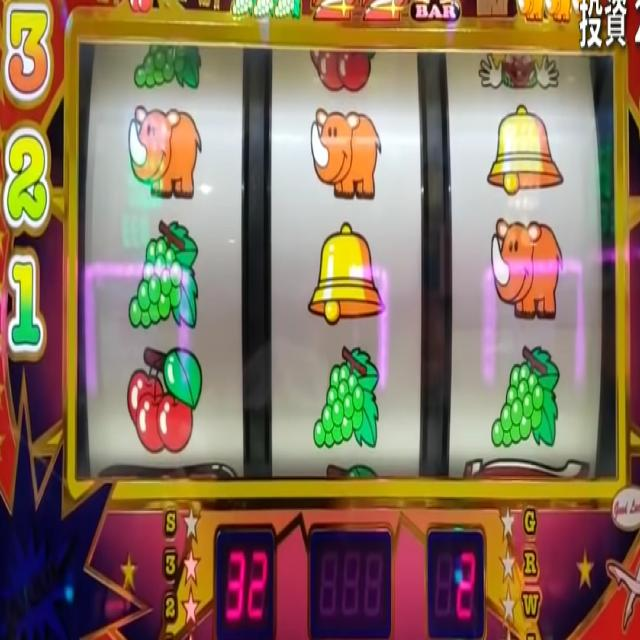bar: (411, 0, 459, 25)
bell: (486, 106, 562, 195)
cherry: (125, 347, 202, 452), (308, 44, 378, 94), (126, 0, 154, 16)
clown: (477, 51, 558, 96)
display: (77, 39, 621, 493)
elephant: (490, 213, 566, 318), (311, 106, 381, 205), (127, 101, 200, 195), (546, 0, 572, 25), (516, 0, 543, 20)
grape: (127, 218, 200, 328), (492, 342, 560, 452), (313, 347, 380, 452), (130, 41, 202, 95), (276, 0, 299, 22), (229, 0, 255, 17), (255, 0, 276, 17)
z: (312, 0, 358, 22), (364, 0, 404, 25)
